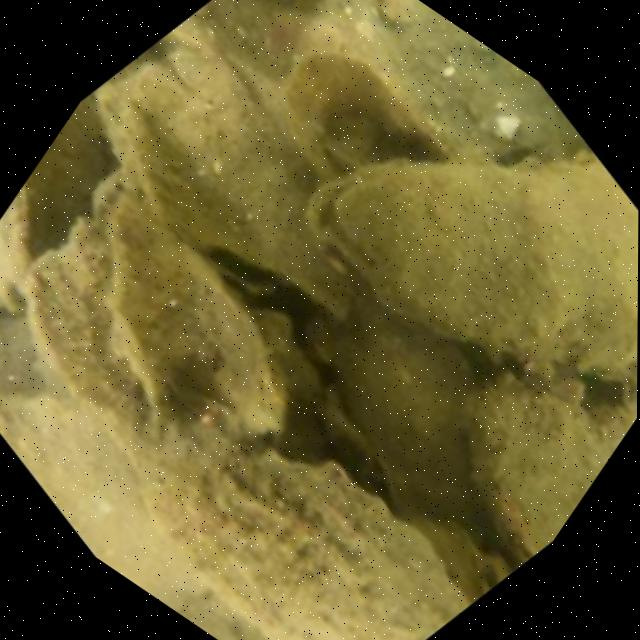Oyster-Closed: (97, 174, 298, 430), (466, 378, 637, 567), (118, 103, 208, 234)
Oyster-Indeterminate: (127, 381, 477, 640), (306, 152, 638, 378), (95, 44, 350, 310), (0, 385, 209, 619), (17, 168, 140, 443), (338, 304, 478, 520), (275, 47, 466, 184), (0, 174, 36, 323), (206, 241, 285, 294)
